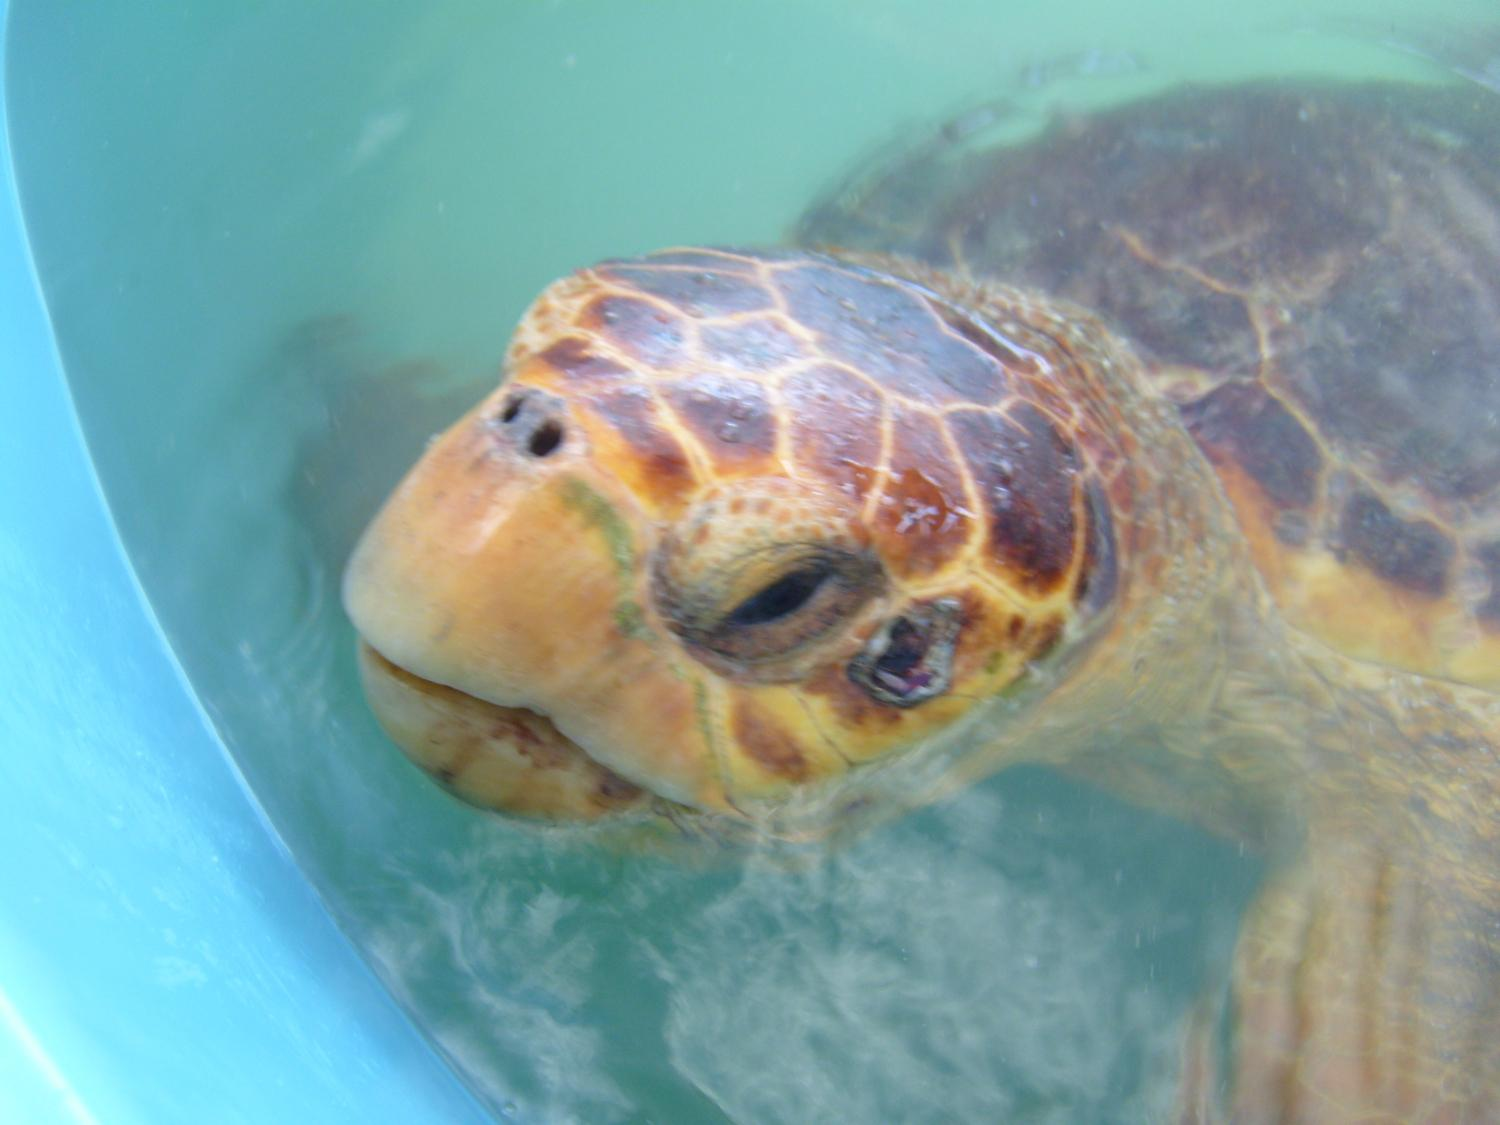turtle: (319, 213, 1220, 886)
